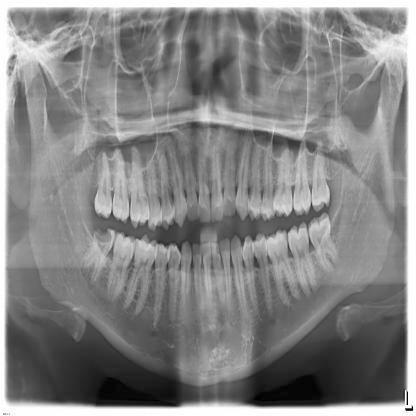Mandible: (21, 52, 402, 388)
Maxilla: (87, 125, 337, 234)
